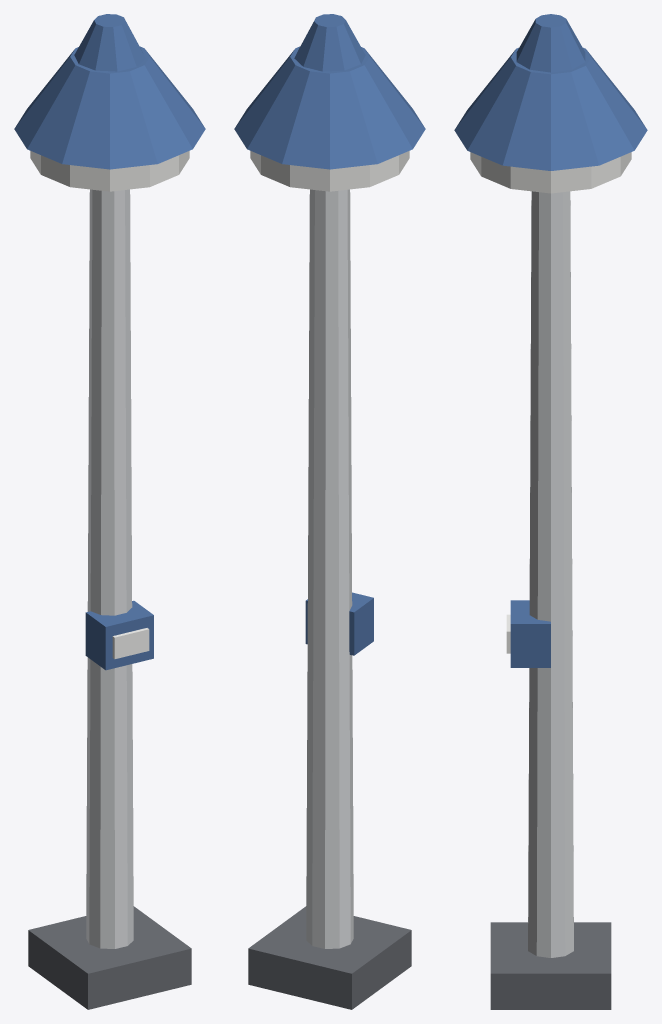
Rendered from PortLamp.glb.
3 views of the same model, side by side, from view 1: azimuth 30°, elevation 25°; view 2: azimuth 150°, elevation 25°; view 3: azimuth 270°, elevation 25° (orthographic).
Parts seen in each view (by area): view 1: marina-and-yacht-club-jetty-lamp; view 2: marina-and-yacht-club-jetty-lamp; view 3: marina-and-yacht-club-jetty-lamp.
Part boxes in pixels (x1=…): marina-and-yacht-club-jetty-lamp: x1=14, y1=14, x2=205, y2=1009; marina-and-yacht-club-jetty-lamp: x1=234, y1=14, x2=425, y2=1009; marina-and-yacht-club-jetty-lamp: x1=454, y1=14, x2=647, y2=1009.
Bounding box in the file's own units: 0.7 × 3.85 × 0.7.
